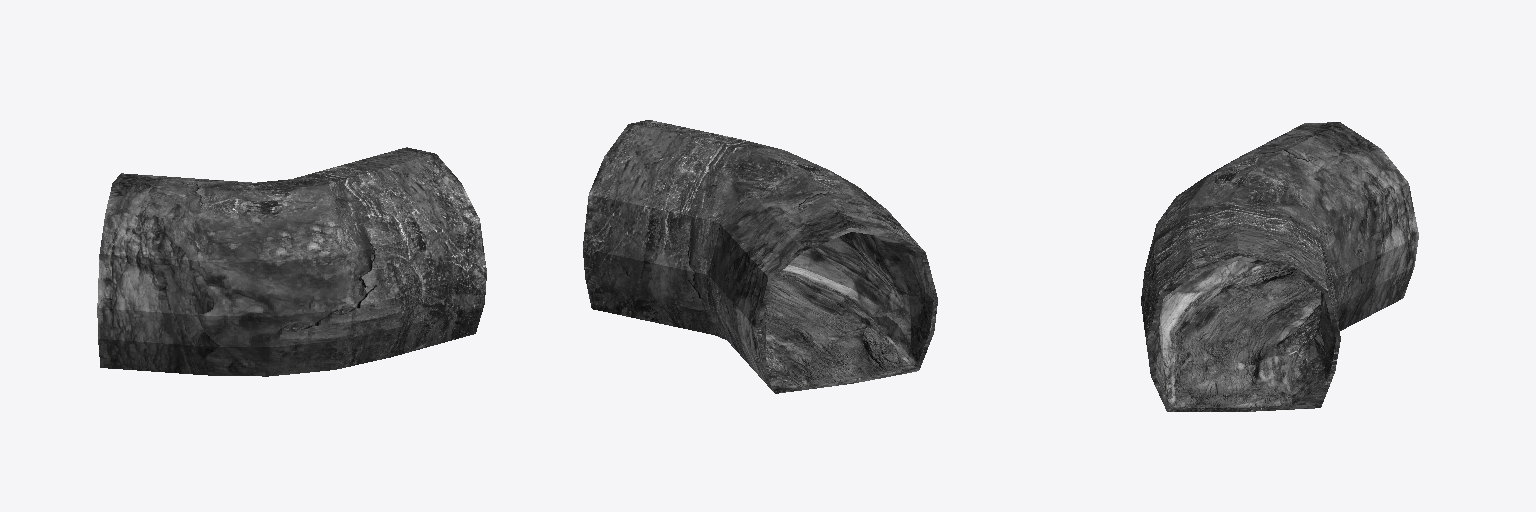
3 renders of one model, left to right at view 1: azimuth 30°, elevation 25°; view 2: azimuth 150°, elevation 25°; view 3: azimuth 270°, elevation 25°, orthographic.
Parts seen in each view (by area): view 1: corridorA_curve1_cave4; view 2: corridorA_curve1_cave4; view 3: corridorA_curve1_cave4.
Part boxes in pixels (x1,y1,x2,y2): corridorA_curve1_cave4: (97,147,486,376); corridorA_curve1_cave4: (583,120,937,393); corridorA_curve1_cave4: (1141,122,1418,411).
Bounding box in the file's own units: 580 × 264 × 425.
Materials: 1 (1 with a texture image).